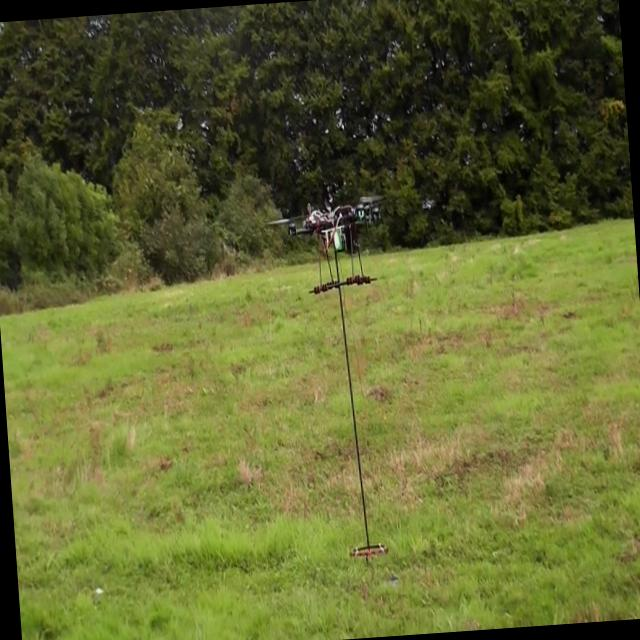drone: (264, 186, 394, 299)
